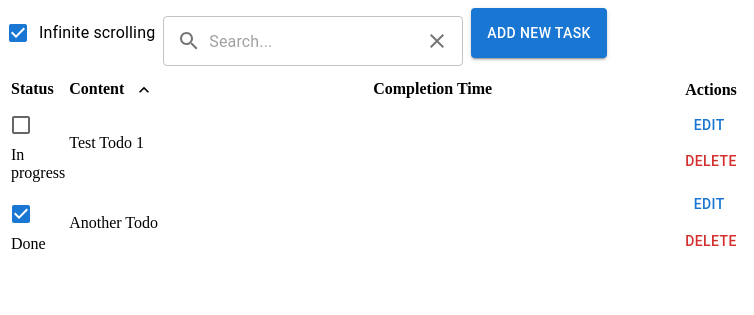
it: TodosContainer integration › should toggles infinite scrolling mode
The width and height of the screenshot is (754, 315).
Click the 1st checkbox labelled "Infinite scrolling" at (81, 33), box [6,21,155,45]
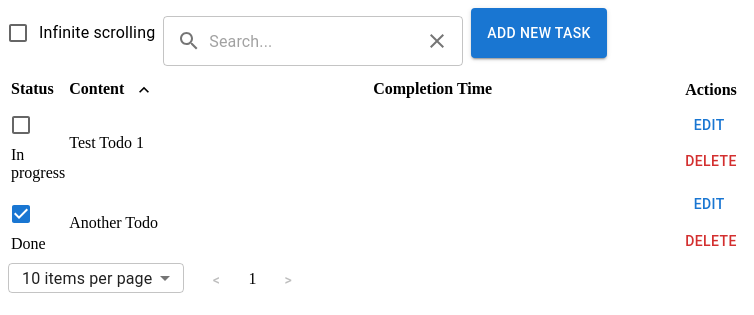
Result: the 1st checkbox labelled "Infinite scrolling" is not checked at [6,21,155,45]
Result: the button "<" is shown at [184,262,248,298]
Result: the button ">" is shown at [256,262,320,298]
